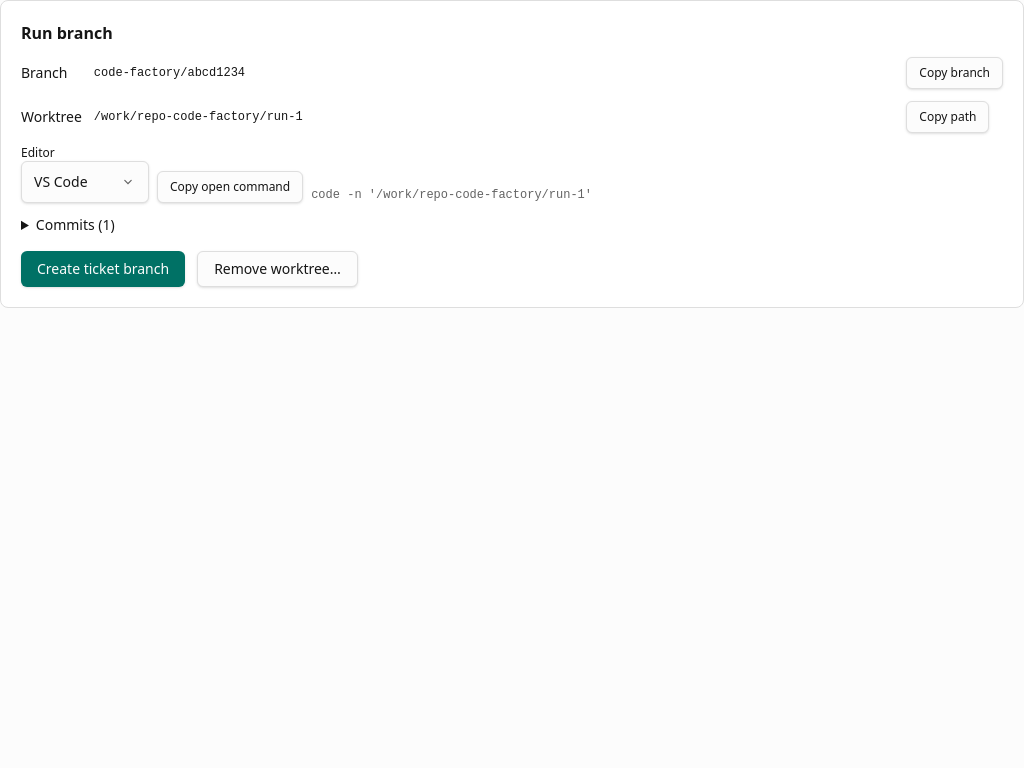
Test case: run branch panel › moves focus to Copy branch after removing the worktree
The width and height of the screenshot is (1024, 768).
What coordinates should you click on to do the following:
click the button "Remove worktree…"
I would click on:
 (277, 269)
Its box is [197,251,358,287].
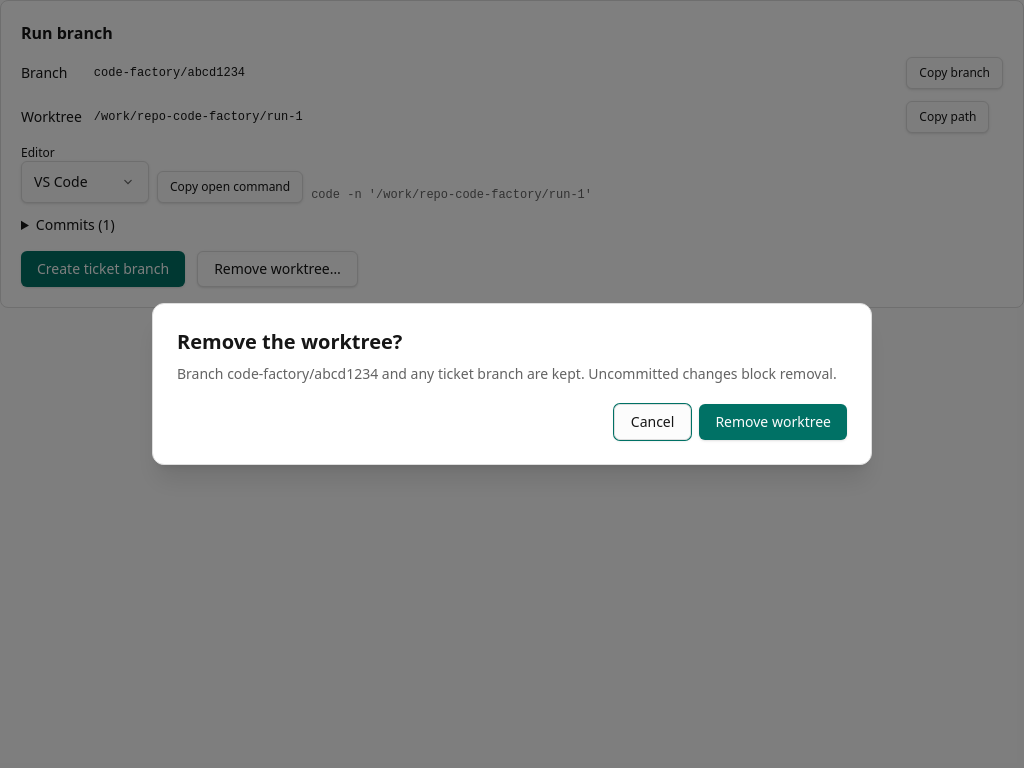
What coordinates should you click on to do the following:
click the button "Remove worktree"
I would click on:
 (773, 422)
Its box is [699,404,847,440].
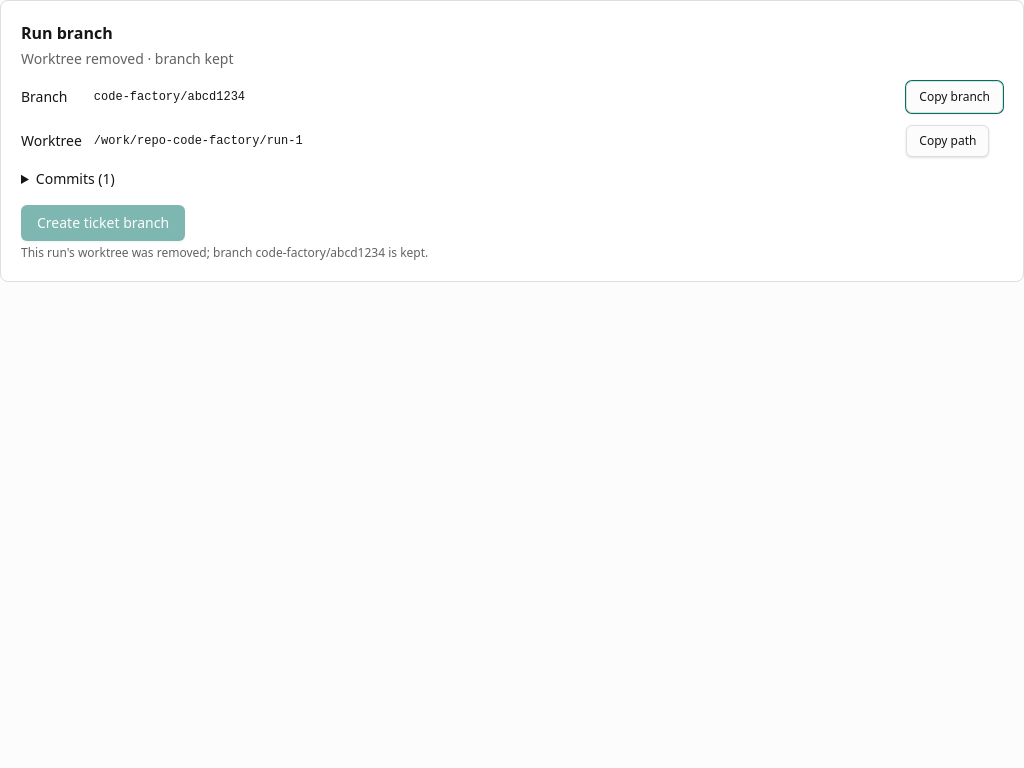
Check: the dialog is gone
Check: the button "Remove worktree…" is gone
